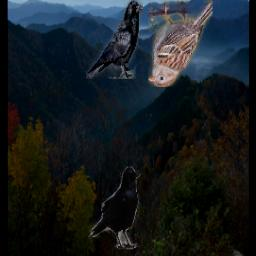Crow: (86, 0, 143, 79), (88, 166, 141, 250)
Sparrow: (148, 0, 213, 87)
